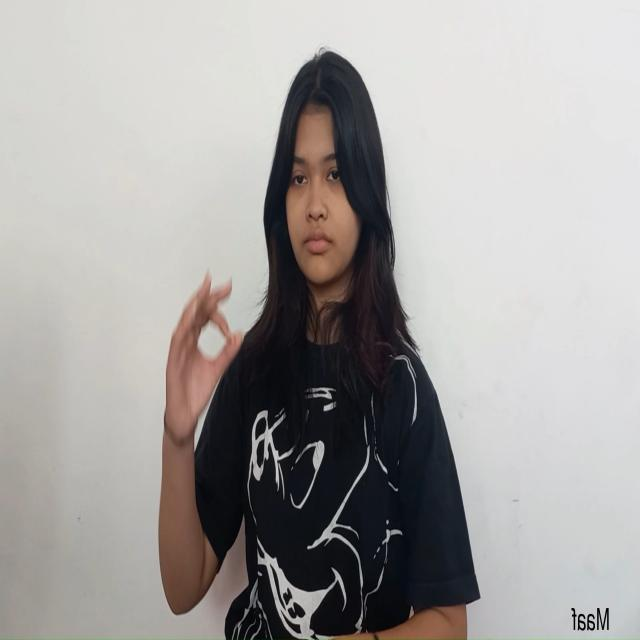Maaf -BISINDO-: (160, 267, 247, 459)
